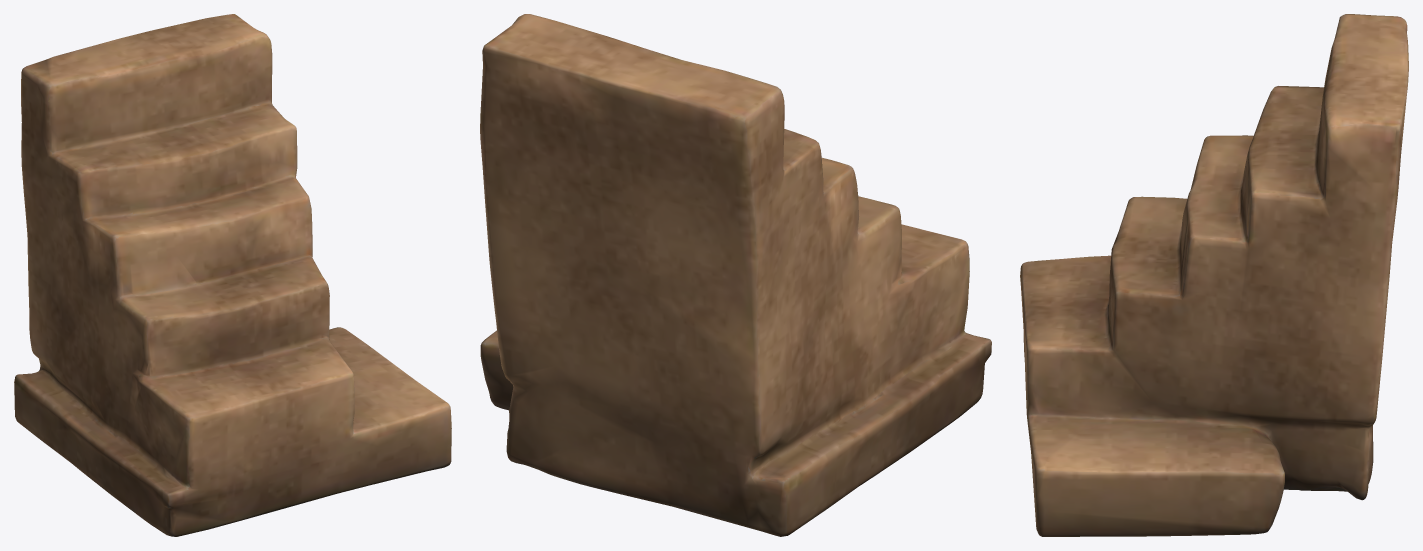
The model's file is sturdy-sandstone-straight-staircase-v001.glb.
3 views of the same model, side by side, from view 1: azimuth 30°, elevation 25°; view 2: azimuth 150°, elevation 25°; view 3: azimuth 270°, elevation 25° (orthographic). The views are drawn at different scales.
Parts seen in each view (by area): view 1: sturdy-sandstone-straight-staircase; view 2: sturdy-sandstone-straight-staircase; view 3: sturdy-sandstone-straight-staircase.
Boxes of the visible parts, box(x1,y1,x2,y2) form: sturdy-sandstone-straight-staircase: box(14, 14, 451, 536); sturdy-sandstone-straight-staircase: box(480, 14, 991, 536); sturdy-sandstone-straight-staircase: box(1020, 14, 1408, 536).
Bounding box in the file's own units: 1.04 × 1.2 × 1.09.
1 material, 1 textured.
